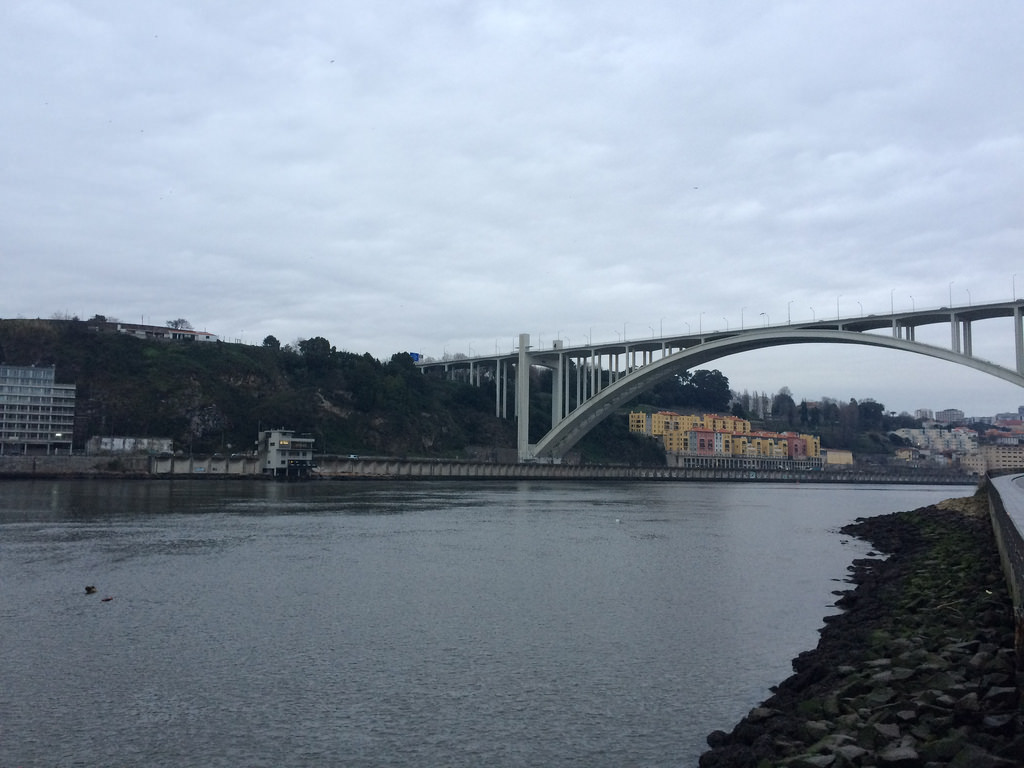arrabida: (416, 292, 1023, 468)
